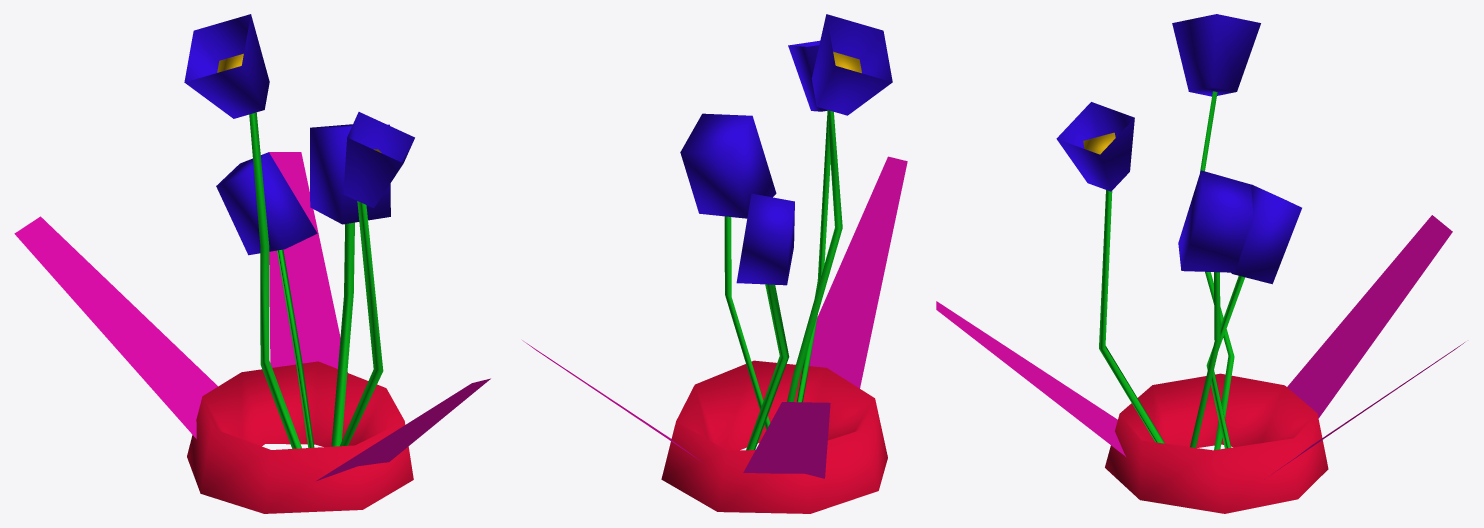
The model's file is flower1_lod.fbx.
3 views of the same model, side by side, from view 1: azimuth 30°, elevation 25°; view 2: azimuth 150°, elevation 25°; view 3: azimuth 270°, elevation 25° (orthographic). The views are drawn at different scales.
Visible parts, largest first — view 1: Flower_lod; view 2: Flower_lod; view 3: Flower_lod.
Boxes of the visible parts, <box> form: Flower_lod: <box>14,14,490,513</box>; Flower_lod: <box>522,14,907,513</box>; Flower_lod: <box>936,14,1464,513</box>.
Size of the model in its own units: 41 by 61.38 by 68.32.
